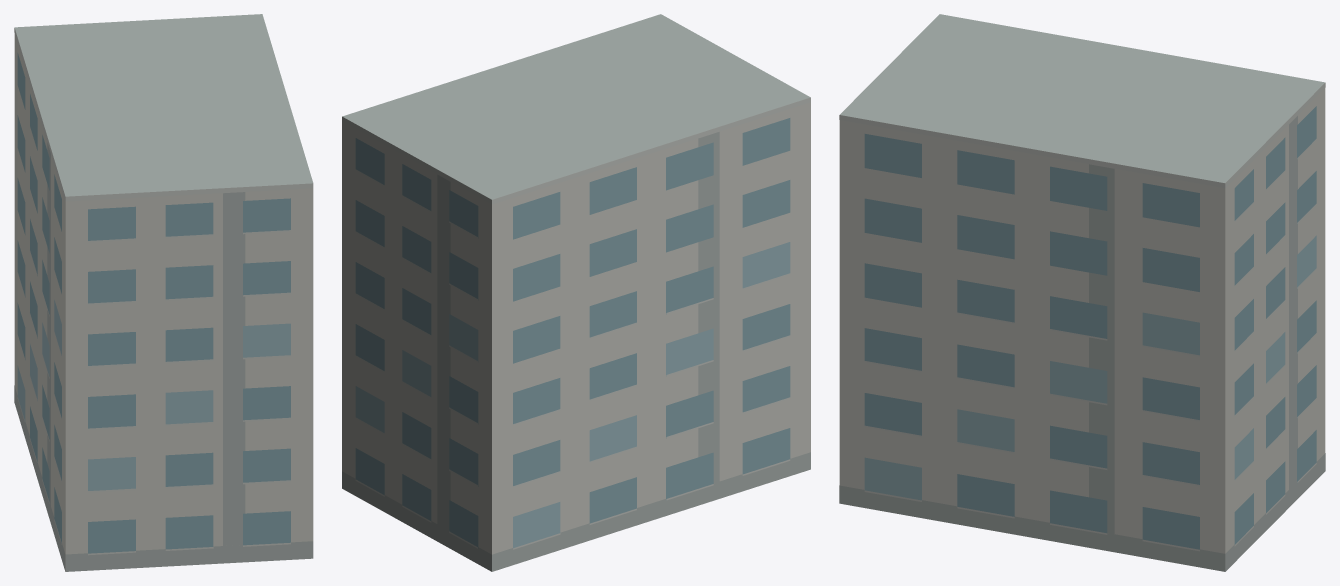
File: residential-90525418-f305-4b60-b0f5-90f6bff5ee38.glb
3 views of the same model, side by side, from view 1: azimuth 30°, elevation 25°; view 2: azimuth 150°, elevation 25°; view 3: azimuth 270°, elevation 25° (orthographic). The views are drawn at different scales.
Visible parts, largest first — view 1: residential-90525418-f305-4b60-b0f5-90f6bff5ee38.tmp; view 2: residential-90525418-f305-4b60-b0f5-90f6bff5ee38.tmp; view 3: residential-90525418-f305-4b60-b0f5-90f6bff5ee38.tmp.
Boxes of the visible parts, x1,y1,x2,y2 form: residential-90525418-f305-4b60-b0f5-90f6bff5ee38.tmp: [14, 14, 313, 571]; residential-90525418-f305-4b60-b0f5-90f6bff5ee38.tmp: [342, 14, 810, 571]; residential-90525418-f305-4b60-b0f5-90f6bff5ee38.tmp: [839, 14, 1325, 571].
Size of the model in its own units: 17.1 by 18.3 by 20.75.
